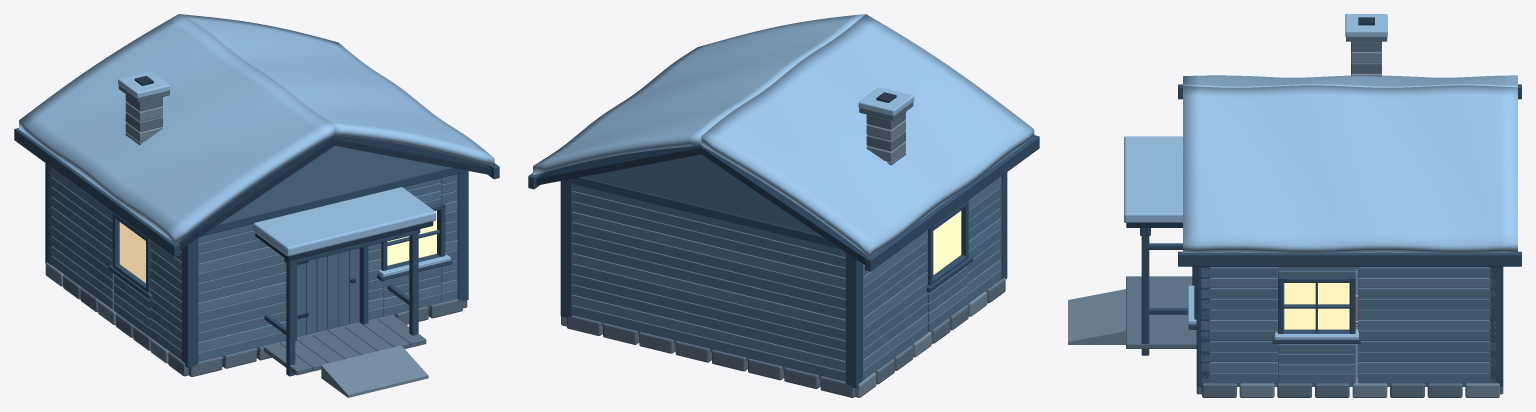
The model's file is safe_cabin.glb.
The picture shows the model from 3 angles, left to right: view 1: azimuth 30°, elevation 25°; view 2: azimuth 150°, elevation 25°; view 3: azimuth 270°, elevation 25°; orthographic projection. The views are drawn at different scales.
Visible parts, largest first — view 1: Roof, Wall_Front, Wall_West, Porch, DoorLeaf, Foundation, Chimney, DoorFrame, Wall_Back; view 2: Roof, Wall_Back, Wall_West, Foundation, Chimney, Wall_Front; view 3: Roof, Wall_East, Porch, Foundation, Chimney, Wall_Front, Wall_Back, Floor.
Part boxes in pixels (x1,y1,x2,y2): Roof: (14,14,499,260); Wall_Front: (182,146,468,367); Wall_West: (48,166,181,360); Porch: (263,229,428,397); DoorLeaf: (297,248,359,336); Foundation: (45,262,467,376); Chimney: (118,71,170,144); DoorFrame: (295,246,368,340); Wall_Back: (45,163,51,264); Roof: (528,14,1039,271); Wall_Back: (560,154,863,388); Wall_West: (863,177,1001,380); Foundation: (561,278,1005,397); Chimney: (858,87,914,165); Wall_Front: (1000,172,1007,279); Roof: (1124,75,1521,266); Wall_East: (1201,266,1495,383); Porch: (1068,228,1196,355); Foundation: (1196,378,1503,397); Chimney: (1345,14,1387,76); Wall_Front: (1188,266,1210,386); Wall_Back: (1489,266,1503,386); Floor: (1201,268,1465,386).
Bounding box in the file's own units: 7.3 × 4.97 × 8.21.
